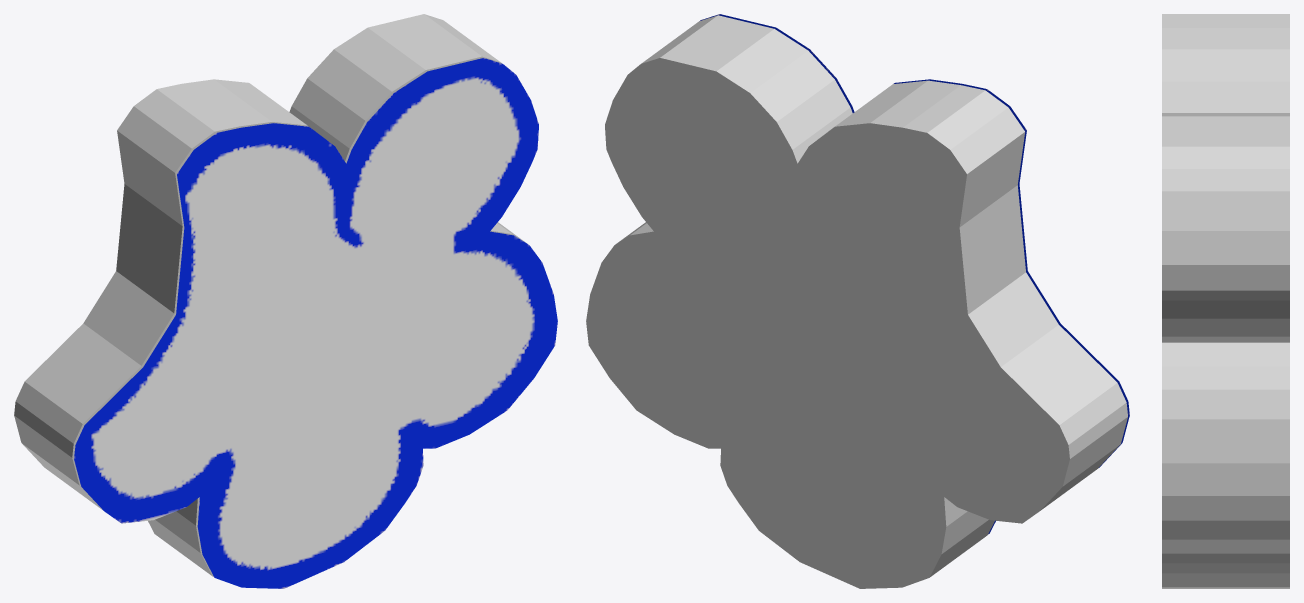
3 renders of one model, left to right at view 1: azimuth 30°, elevation 25°; view 2: azimuth 150°, elevation 25°; view 3: azimuth 270°, elevation 25°, orthographic. The views are drawn at different scales.
Visible parts, largest first — view 1: In_4_1, In_4_0; view 2: In_4_0, In_4_1; view 3: In_4_0.
Boxes of the visible parts, x1=… form: In_4_1: x1=74, y1=58, x2=557, y2=588; In_4_0: x1=14, y1=14, x2=527, y2=576; In_4_0: x1=586, y1=15, x2=1127, y2=588; In_4_1: x1=700, y1=14, x2=1129, y2=534; In_4_0: x1=1162, y1=14, x2=1289, y2=588.
Bounding box in the file's own units: 2.4 × 2.29 × 0.515.
Materials: 2 (1 with a texture image).
